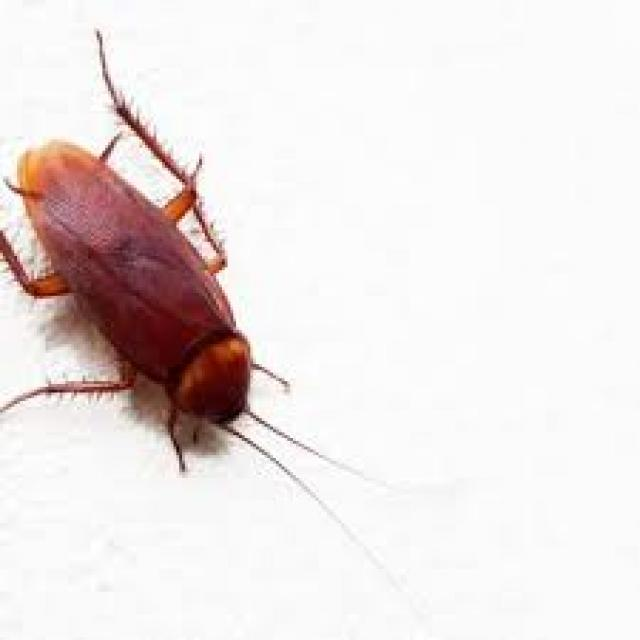Cockroach: (0, 18, 401, 596)
